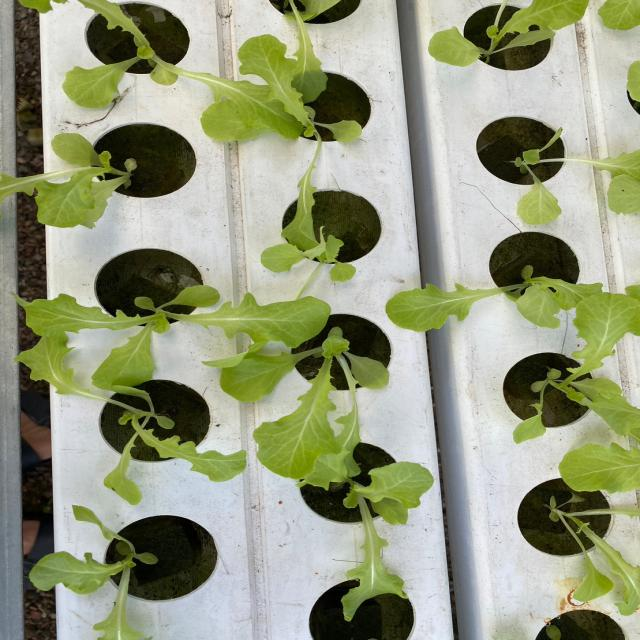Lettuce-Not-Ready-to-Harvest: (5, 333, 252, 505), (12, 278, 331, 394), (222, 323, 402, 488), (278, 446, 446, 622), (381, 260, 640, 342), (510, 293, 640, 452), (27, 503, 165, 640), (0, 130, 148, 242)
